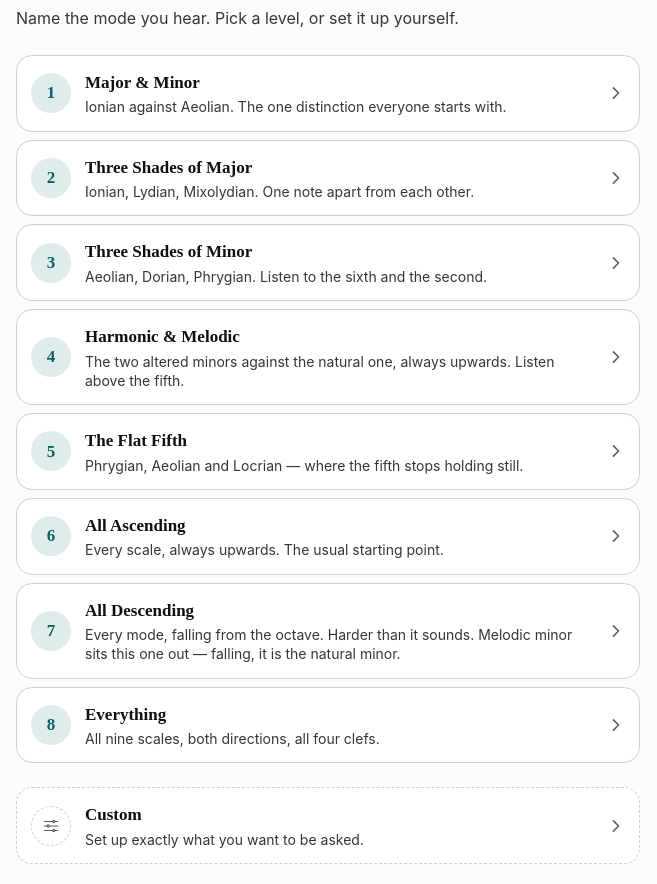
Test case: Scale Hearing › chooses the direction, which reading does not
Click the text "Custom". click: click(113, 815)
box: left=85, top=805, right=142, bottom=824
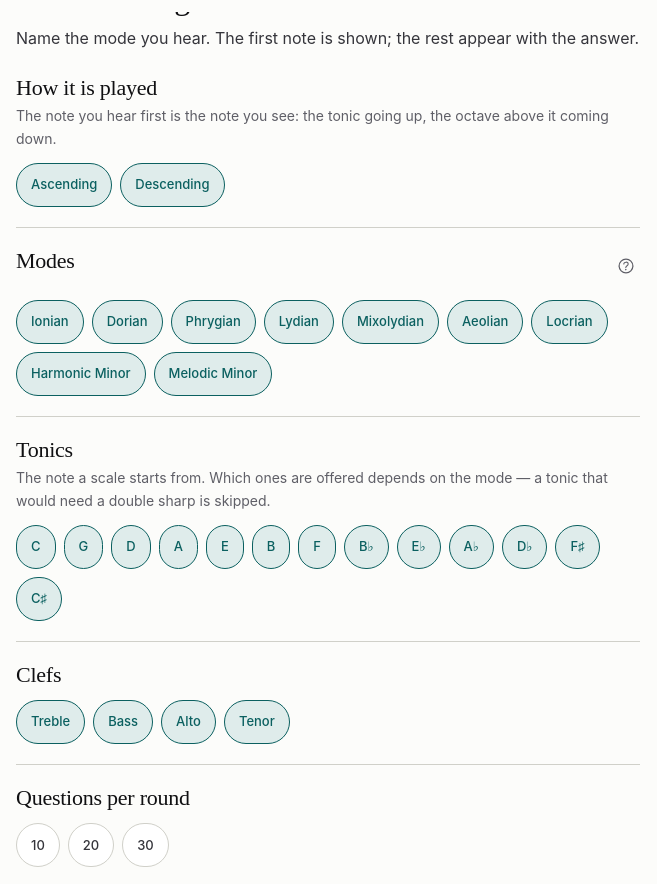
expect the button "Ascending" is shown: met, box left=16, top=163, right=112, bottom=207
expect the heading "How it is played" is shown: met, box left=16, top=75, right=157, bottom=101
